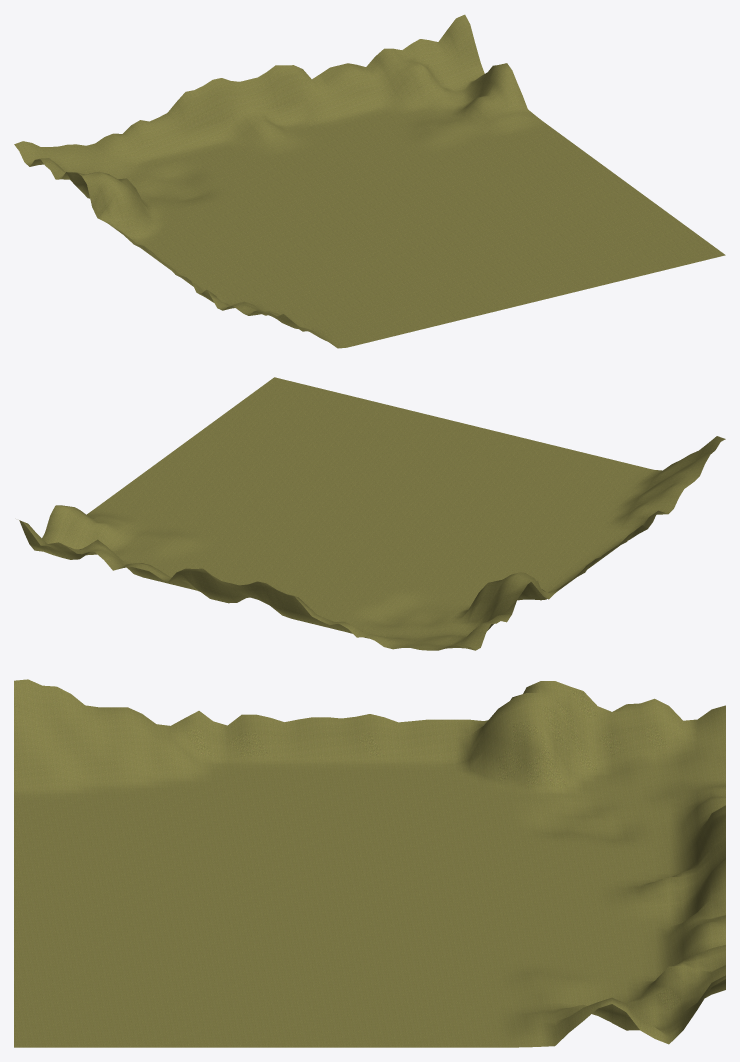
Rendered from field_Atype_01.fbx.
3 renders of one model, top to bottom at view 1: azimuth 30°, elevation 25°; view 2: azimuth 150°, elevation 25°; view 3: azimuth 270°, elevation 25°, orthographic. The views are drawn at different scales.
Visible parts, largest first — view 1: pPlane1; view 2: pPlane1; view 3: pPlane1.
Part boxes in pixels (box(x1,y1,x2,y2)): pPlane1: box(14, 14, 725, 348); pPlane1: box(19, 377, 725, 650); pPlane1: box(14, 679, 725, 1047).
Bounding box in the file's own units: 20000 × 2310 × 20000.
